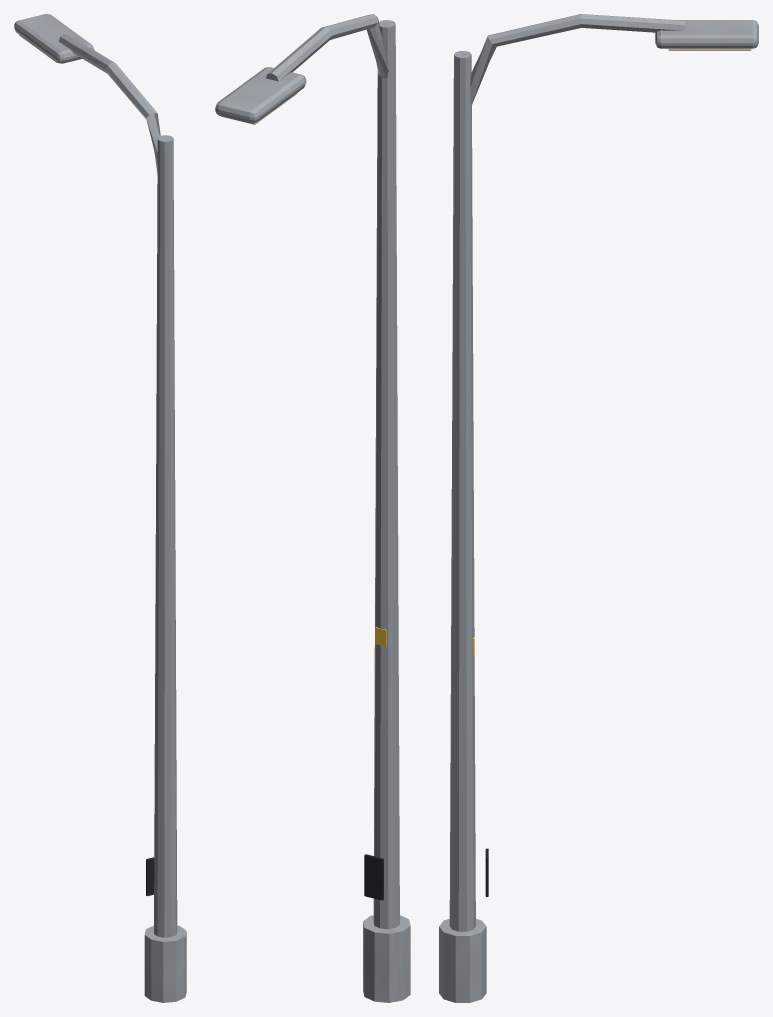
The model's file is StreetLamp_lod.glb.
The picture shows the model from 3 angles, left to right: view 1: azimuth 30°, elevation 25°; view 2: azimuth 150°, elevation 25°; view 3: azimuth 270°, elevation 25°; orthographic projection. The views are drawn at different scales.
Visible parts, largest first — view 1: Pole, Head; view 2: Pole, Head; view 3: Pole, Head.
Part boxes in pixels (x1=…): Pole: x1=58, y1=34, x2=186, y2=1002; Head: x1=14, y1=14, x2=94, y2=63; Pole: x1=266, y1=14, x2=410, y2=1002; Head: x1=215, y1=67, x2=306, y2=124; Pole: x1=439, y1=14, x2=685, y2=1002; Head: x1=655, y1=20, x2=758, y2=50.
Size of what is drawn, in the model's own units: 0.32 by 7.3 by 2.16.
1 material, 1 textured.
